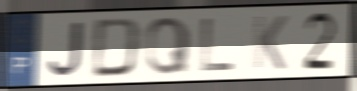2: (302, 10, 339, 73)
D: (89, 16, 143, 80)
J: (46, 20, 86, 79)
K: (250, 14, 289, 72)
L: (198, 16, 238, 74)
Q: (144, 14, 192, 77)
